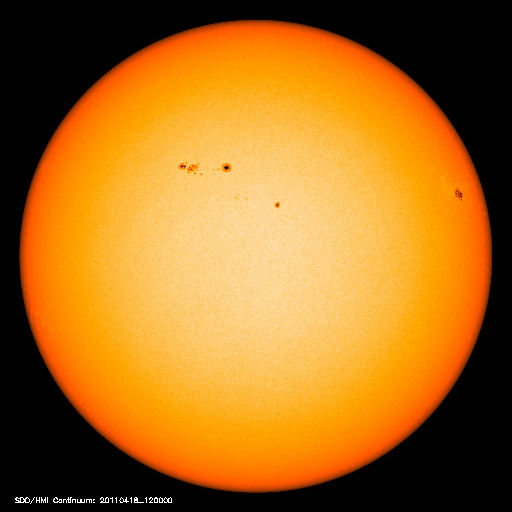sunspot: (166, 152, 241, 180), (443, 180, 476, 212), (261, 190, 293, 220)
